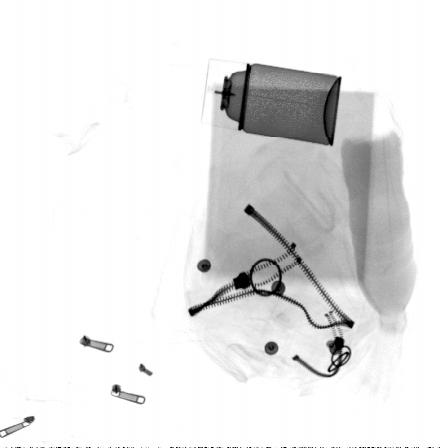Sprayer: (200, 57, 342, 147)
